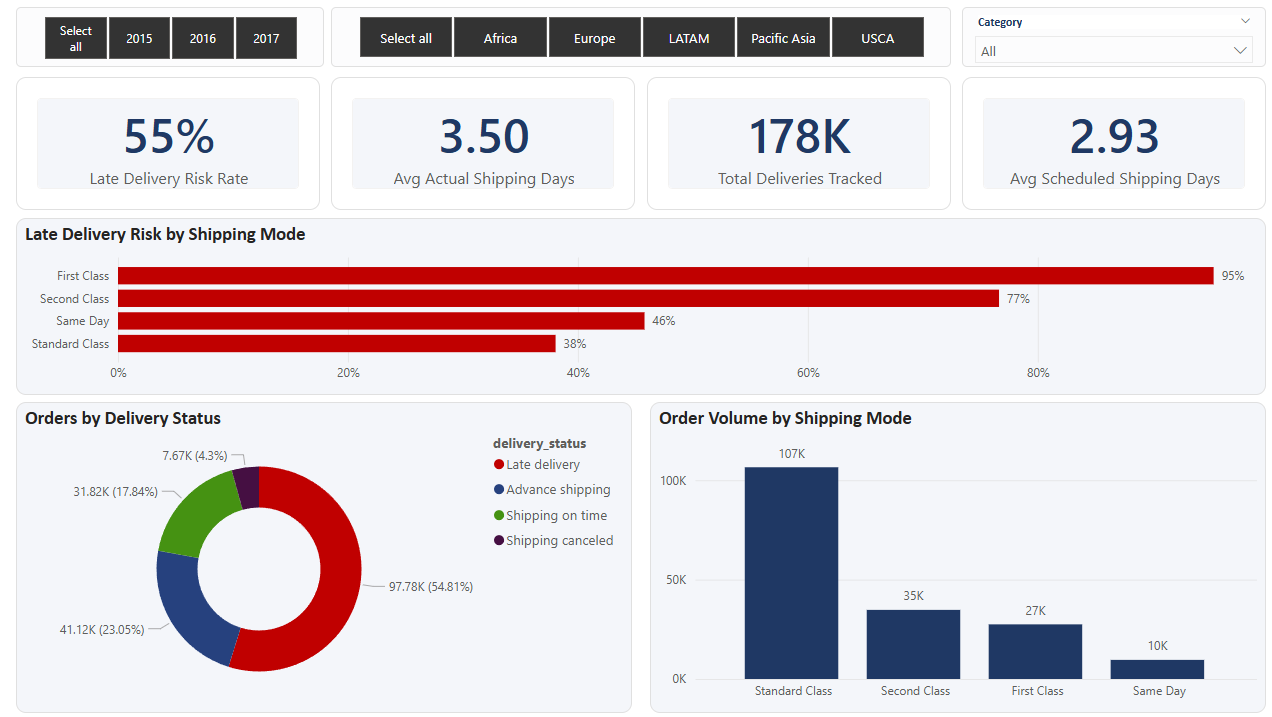

This screenshot's page, from the dashboard's own definition file:
{"tool":"powerbi","page":{"name":"Delivery Performance","canvas":[1280,720],"ordinal":1},"visuals":[{"type":"group","id":"g1","title":"Group 1","box":[19,77,1250,636],"z":0},{"type":"cardVisual","fields":{"Data":["Avg(public orders.late_delivery_risk)"]},"box":[19,77,303.8,133.1],"z":0,"group":"g1"},{"type":"slicer","fields":{"Values":["public orders.order_year"]},"box":[19,7,308,60],"z":1000},{"type":"cardVisual","fields":{"Data":["Avg(public orders.days_for_shipping_real)"]},"box":[334.4,77,303.8,133.1],"z":1000,"group":"g1"},{"type":"slicer","fields":{"Values":["public orders.market"]},"box":[334,7,620,60],"z":2000},{"type":"cardVisual","fields":{"Data":["CountNonNull(public orders.delivery_status)"]},"box":[649.8,77,303.8,133.1],"z":2000,"group":"g1"},{"type":"slicer","fields":{"Values":["public orders.category_name"]},"box":[965,7,304,60],"z":3000},{"type":"cardVisual","fields":{"Data":["Avg(public orders.days_for_shipment_scheduled)"]},"box":[965.2,77,303.8,133.1],"z":3000,"group":"g1"},{"type":"clusteredBarChart","title":"Late Delivery Risk by Shipping Mode","fields":{"Category":["public orders.shipping_mode"],"Y":["Avg(public orders.late_delivery_risk)"]},"box":[19,217.5,1250,177.5],"z":4000,"group":"g1"},{"type":"donutChart","title":"Orders by Delivery Status","fields":{"Category":["public orders.delivery_status"],"Y":["CountNonNull(public orders.order_id)"]},"box":[19,402.4,616.3,310.6],"z":5000,"group":"g1"},{"type":"clusteredColumnChart","title":"Order Volume by Shipping Mode","fields":{"Category":["public orders.shipping_mode"],"Y":["CountNonNull(public orders.order_id)"]},"box":[652.7,402.4,616.3,310.6],"z":6000,"group":"g1"}]}

Visuals, with their boxes in screenshot pixels (x1, y1, x2, y2), scaled from the page's 1280x720 canvas onto the 1272x717 screenshot:
"Group 1" group: l=19, t=77, r=1261, b=710
cardVisual - Avg(public orders.late_delivery_risk): l=19, t=77, r=321, b=209
slicer - public orders.order_year: l=19, t=7, r=325, b=67
cardVisual - Avg(public orders.days_for_shipping_real): l=332, t=77, r=634, b=209
slicer - public orders.market: l=332, t=7, r=948, b=67
cardVisual - CountNonNull(public orders.delivery_status): l=646, t=77, r=948, b=209
slicer - public orders.category_name: l=959, t=7, r=1261, b=67
cardVisual - Avg(public orders.days_for_shipment_scheduled): l=959, t=77, r=1261, b=209
"Late Delivery Risk by Shipping Mode" clusteredBarChart: l=19, t=217, r=1261, b=393
"Orders by Delivery Status" donutChart: l=19, t=401, r=631, b=710
"Order Volume by Shipping Mode" clusteredColumnChart: l=649, t=401, r=1261, b=710
